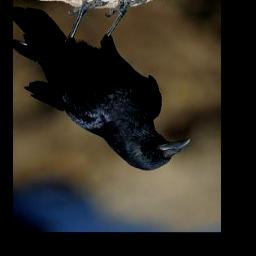Crow: (14, 0, 194, 172)
